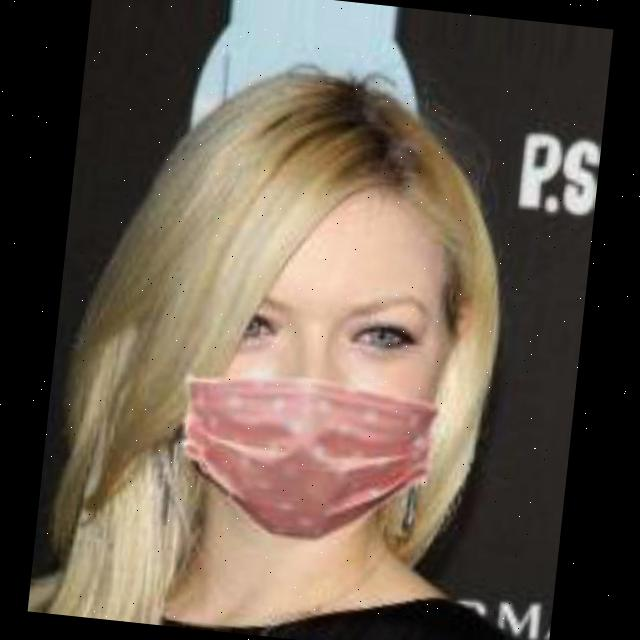suspicion: (96, 59, 519, 574)
